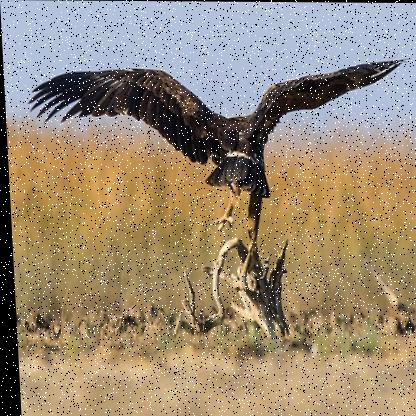Burung: (23, 52, 415, 249)
